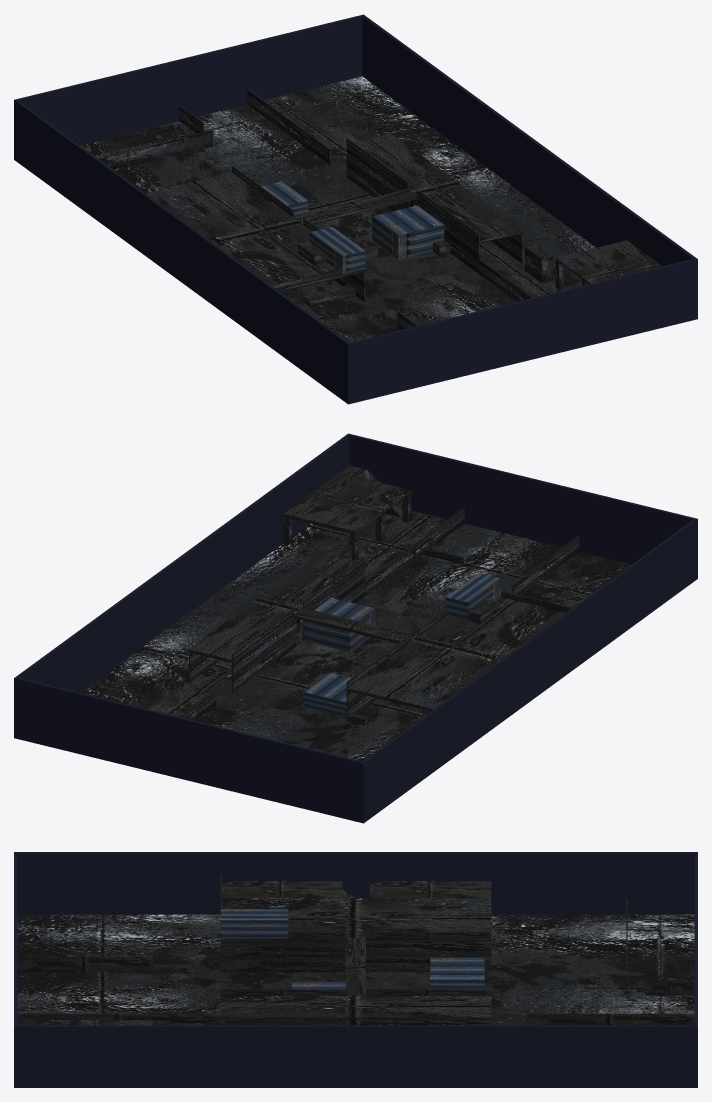
Rendered from break_point_map.glb.
3 renders of one model, top to bottom at view 1: azimuth 30°, elevation 25°; view 2: azimuth 150°, elevation 25°; view 3: azimuth 270°, elevation 25°, orthographic. The views are drawn at different scales.
Visible parts, largest first — view 1: Plane, Cube.010, Cube.007, Cube.026, Cube.008, Cube.009, Cube.015, Cube.017, Cube.041, Cube.023, Cube.035, Cube.004 (+8 smaller); view 2: Plane, Cube.026, Cube.007, Cube.010, Cube.008, Cube.009, Cube.015, Cube.041, Cube.017, Cube.004, Cube.014, Cube.035 (+5 smaller); view 3: Cube.008, Plane, Cube.007, Cube.009, Cube.015, Cube.005, Cube.002, Cube.028, Cube.033, Cube.011, Cube.032, Cube.035 (+13 smaller).
Boxes of the visible parts, left/top/right/bottom form: Plane: left=80, top=76, right=595, bottom=342; Cube.010: left=350, top=258, right=694, bottom=403; Cube.007: left=14, top=99, right=350, bottom=404; Cube.026: left=17, top=15, right=362, bottom=145; Cube.008: left=361, top=14, right=697, bottom=319; Cube.009: left=152, top=172, right=365, bottom=291; Cube.015: left=346, top=133, right=523, bottom=243; Cube.017: left=372, top=205, right=444, bottom=259; Cube.041: left=555, top=244, right=644, bottom=284; Cube.023: left=106, top=130, right=212, bottom=169; Cube.035: left=309, top=226, right=365, bottom=273; Cube.004: left=346, top=147, right=479, bottom=258; Plane: left=80, top=511, right=631, bottom=761; Cube.026: left=17, top=677, right=361, bottom=822; Cube.007: left=361, top=518, right=697, bottom=823; Cube.010: left=349, top=434, right=694, bottom=564; Cube.008: left=14, top=433, right=350, bottom=738; Cube.009: left=346, top=597, right=558, bottom=710; Cube.015: left=188, top=552, right=365, bottom=662; Cube.041: left=300, top=477, right=411, bottom=534; Cube.017: left=304, top=597, right=376, bottom=651; Cube.004: left=232, top=566, right=365, bottom=677; Cube.014: left=365, top=508, right=464, bottom=595; Cube.035: left=446, top=573, right=501, bottom=620; Cube.008: left=14, top=1025, right=697, bottom=1087; Plane: left=17, top=914, right=694, bottom=1025; Cube.007: left=14, top=852, right=697, bottom=914; Cube.009: left=220, top=898, right=491, bottom=941; Cube.015: left=220, top=995, right=491, bottom=1020; Cube.005: left=220, top=941, right=491, bottom=956; Cube.002: left=220, top=957, right=491, bottom=972; Cube.028: left=17, top=956, right=152, bottom=972; Cube.033: left=369, top=881, right=491, bottom=898; Cube.011: left=525, top=1013, right=694, bottom=1025; Cube.032: left=222, top=881, right=342, bottom=898; Cube.035: left=220, top=908, right=288, bottom=938.
Bounding box in the file's own units: 122 × 20 × 202.
3 materials, 2 textured.
